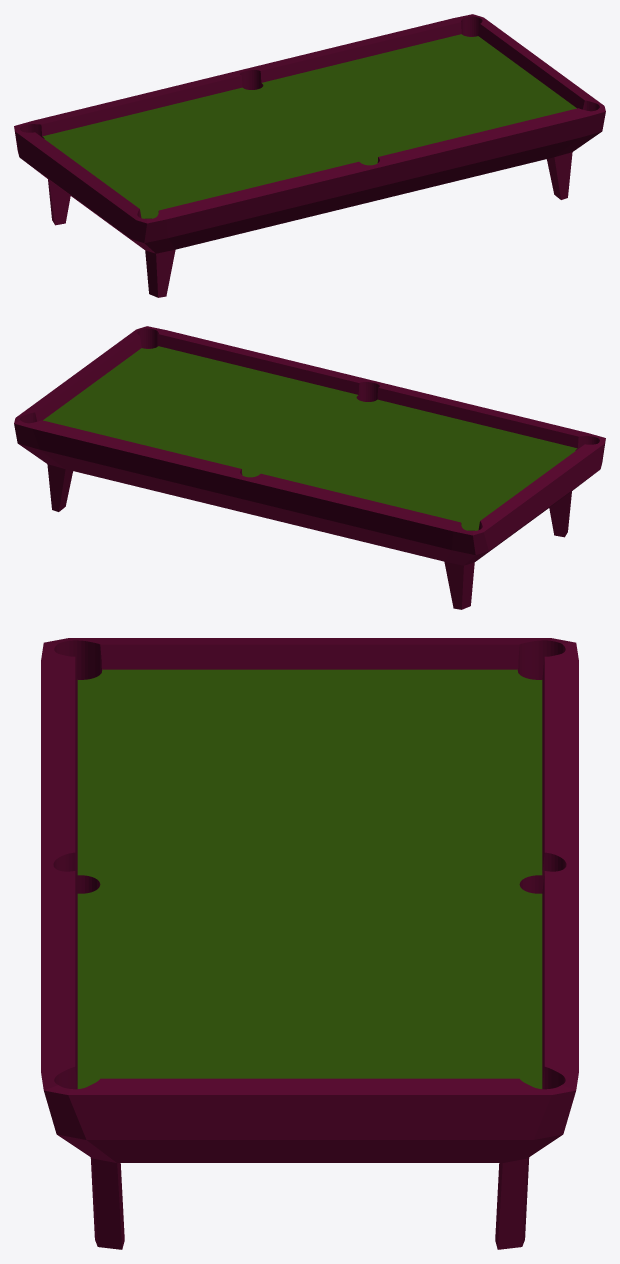
The model's file is Pool_Table.fbx.
3 views of the same model, one above another, from view 1: azimuth 30°, elevation 25°; view 2: azimuth 150°, elevation 25°; view 3: azimuth 270°, elevation 25° (orthographic). The views are drawn at different scales.
Parts seen in each view (by area): view 1: Basic Table; view 2: Basic Table; view 3: Basic Table.
Part boxes in pixels (x1,y1,x2,y2): Basic Table: [14, 14, 605, 297]; Basic Table: [14, 326, 605, 609]; Basic Table: [41, 638, 578, 1249].
Size of the model in its own units: 1995 by 376 by 990.
